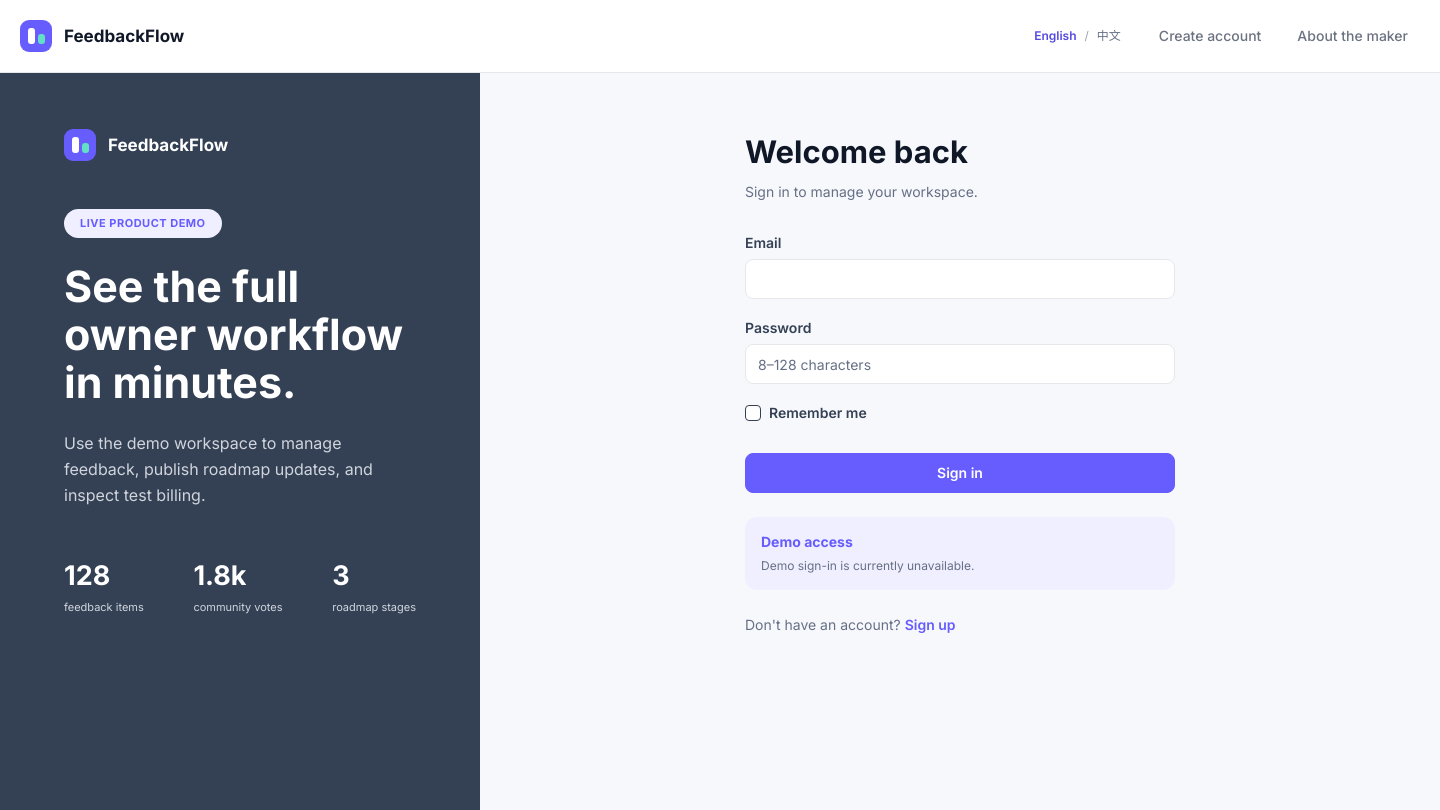
it: LoginPage › shows authentication errors without navigating
The width and height of the screenshot is (1440, 810).
Type "paul@example.com" into the field labelled "Email" at (960, 279), box [745, 259, 1175, 299]
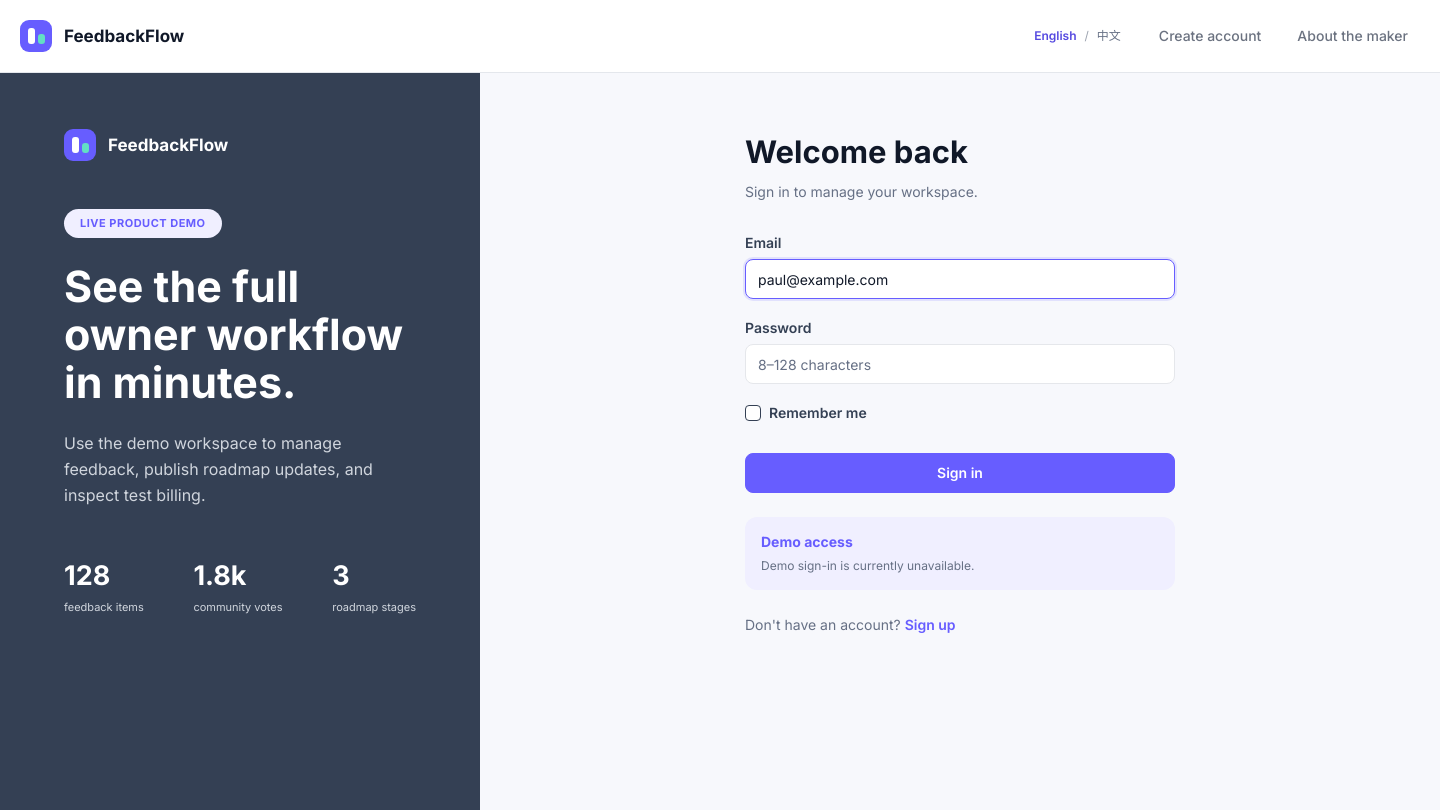
Type "Feedback123!" into the password field labelled "Password" at (960, 364), box [745, 344, 1175, 384]
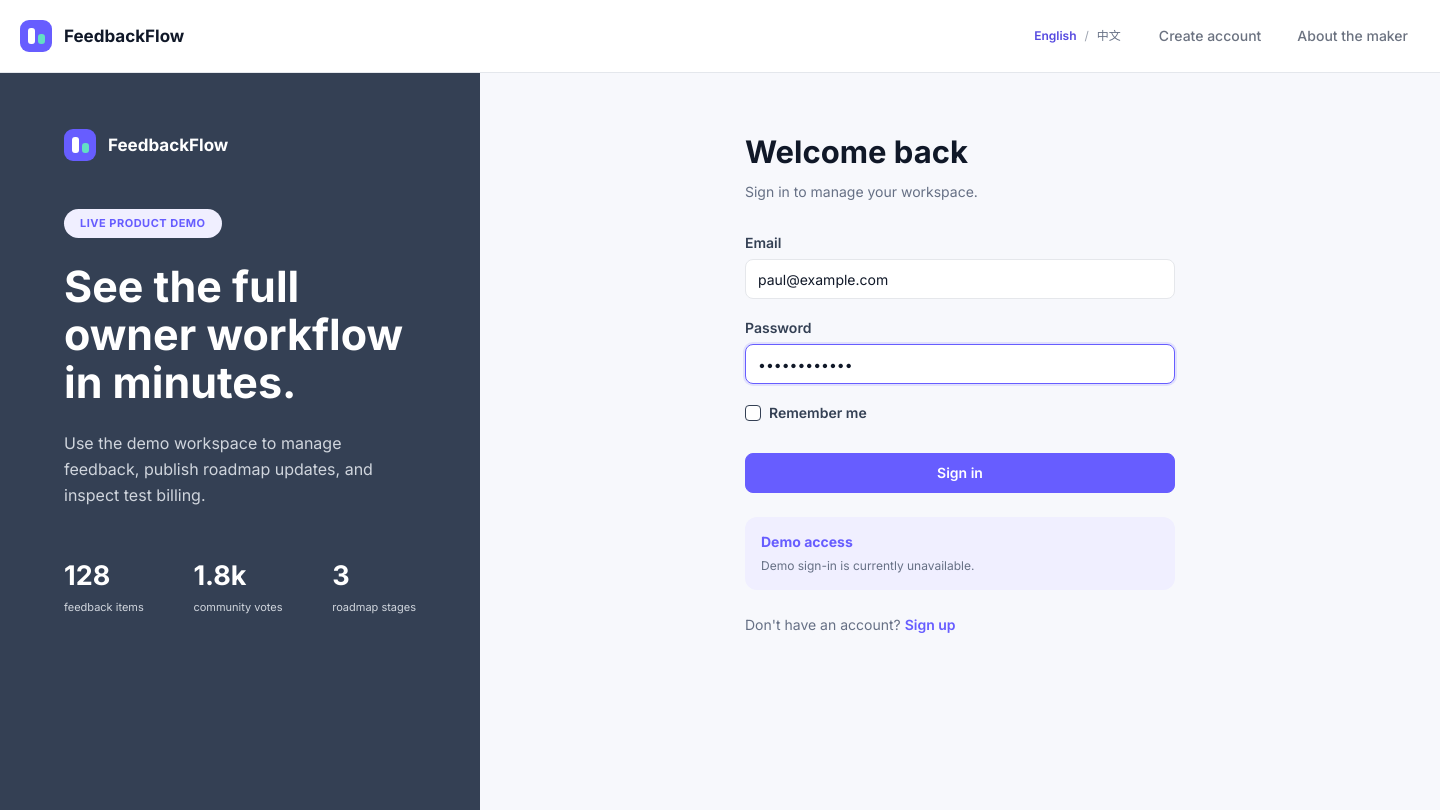
Click the button "Sign in" at (960, 473), box [745, 453, 1175, 493]
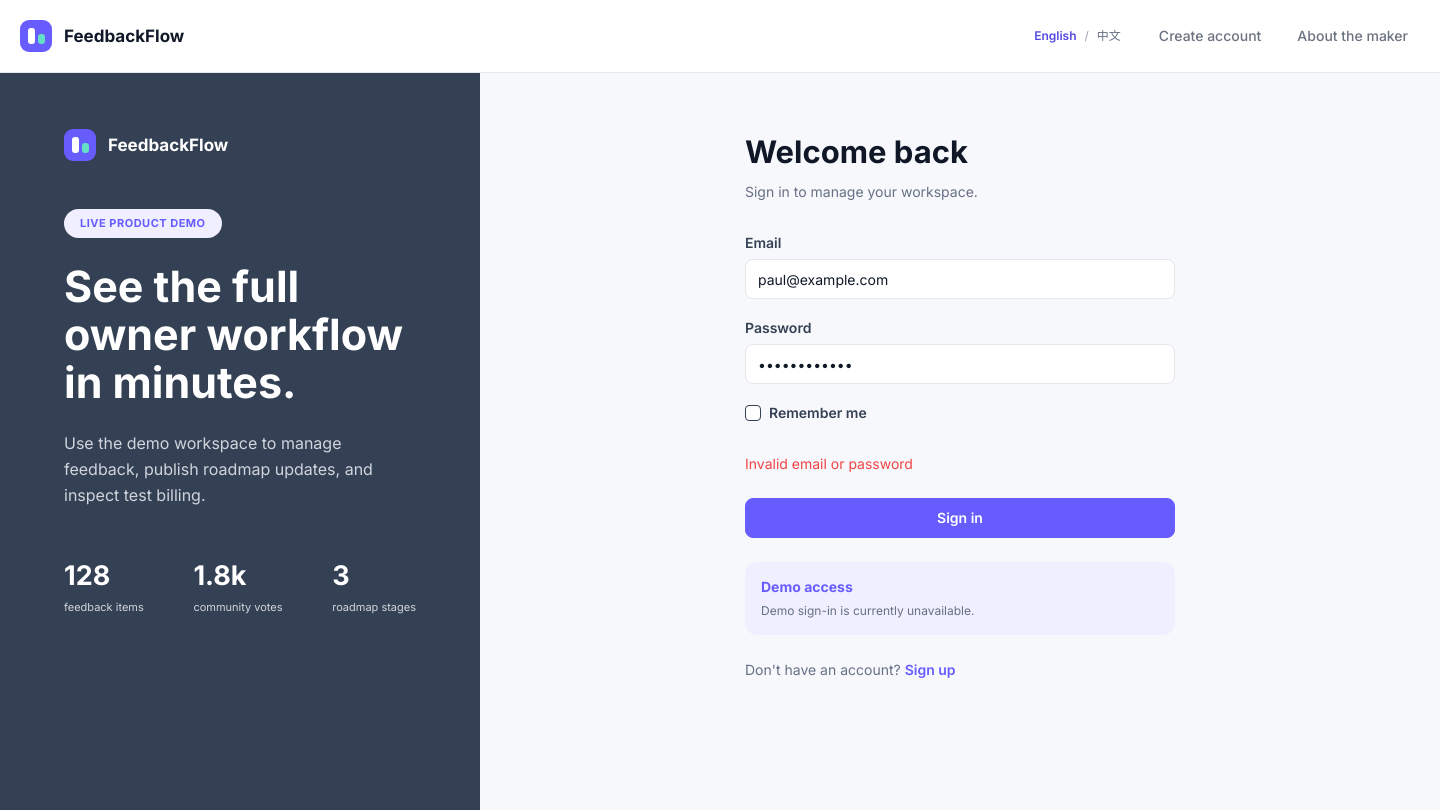
Now the message reads "Invalid email or password", box [745, 455, 913, 472]
